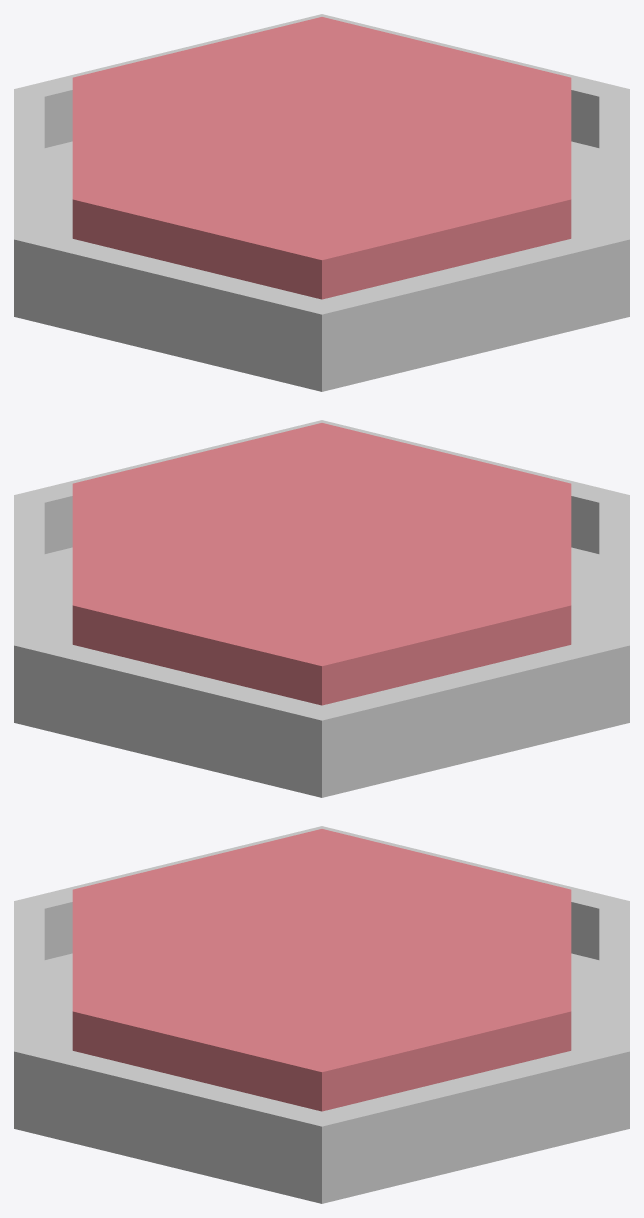
Rendered from Hex_Flag.fbx.
The picture shows the model from 3 angles, top to bottom: view 1: azimuth 30°, elevation 25°; view 2: azimuth 150°, elevation 25°; view 3: azimuth 270°, elevation 25°; orthographic projection.
Parts seen in each view (by area): view 1: Hexagon Material, Hexagon Border; view 2: Hexagon Material, Hexagon Border; view 3: Hexagon Material, Hexagon Border.
Part boxes in pixels (x1=…): Hexagon Material: x1=72, y1=17, x2=571, y2=299; Hexagon Border: x1=14, y1=14, x2=629, y2=391; Hexagon Material: x1=72, y1=423, x2=571, y2=705; Hexagon Border: x1=14, y1=420, x2=629, y2=797; Hexagon Material: x1=72, y1=829, x2=571, y2=1111; Hexagon Border: x1=14, y1=826, x2=629, y2=1203.
Size of the model in its own units: 250 by 40 by 217.
